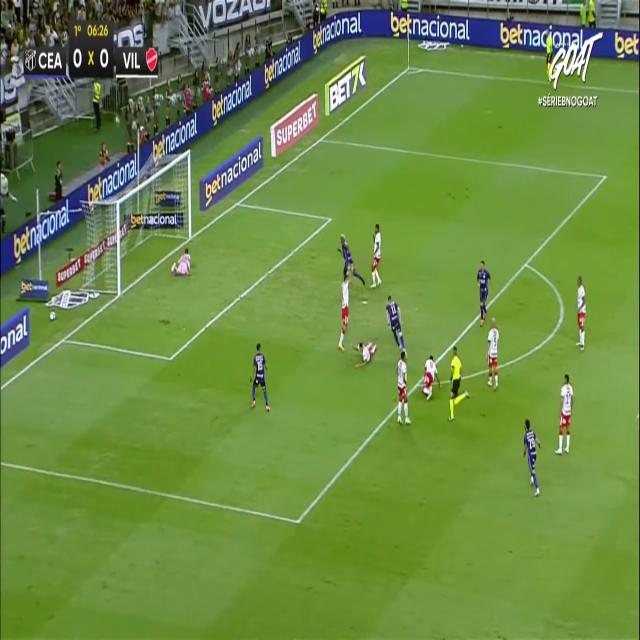goalkeeper: (171, 247, 191, 276)
player: (554, 373, 573, 455), (337, 233, 365, 286), (523, 418, 541, 496), (250, 342, 270, 411), (386, 294, 406, 356), (396, 349, 411, 424), (338, 268, 351, 351), (486, 317, 499, 391), (476, 259, 490, 325), (422, 354, 440, 400), (370, 222, 382, 288), (351, 338, 377, 367), (576, 275, 586, 350)
referee: (447, 345, 469, 421), (543, 25, 559, 84)
